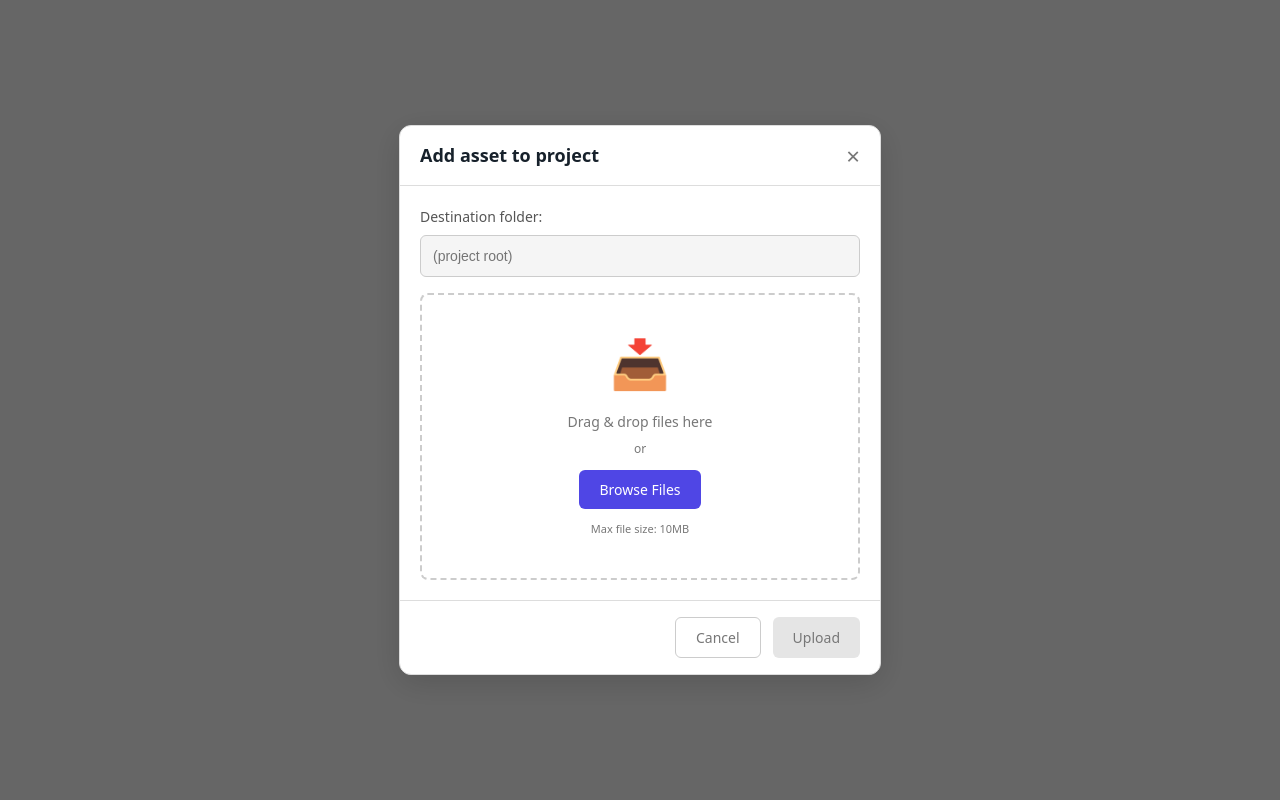
it: NewAssetDialog › destination validation › reports an error for forbidden chars
In the field labelled "Destination folder:": x=640, y=256 left=420, top=235, right=860, bottom=277, type "foo<bar"
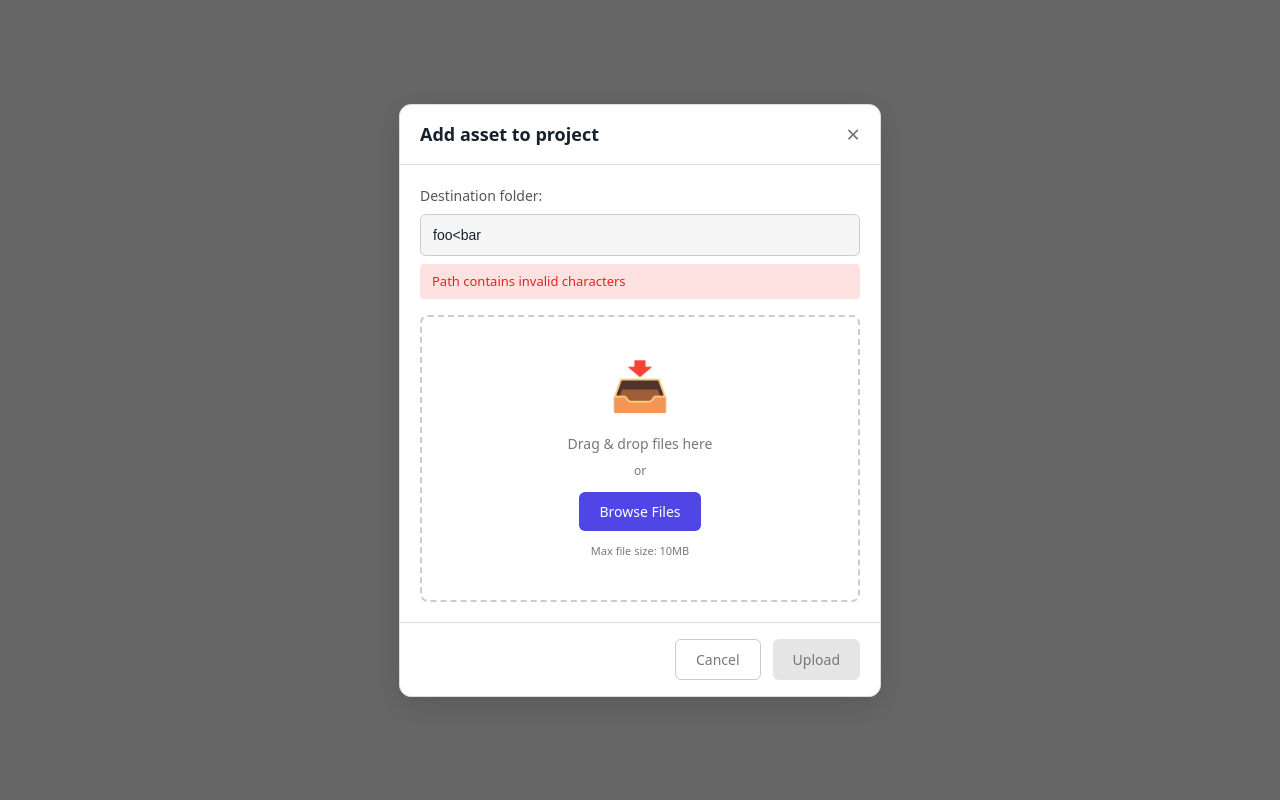
Check: the text "Path contains invalid characters" is shown, box left=420, top=264, right=860, bottom=299
